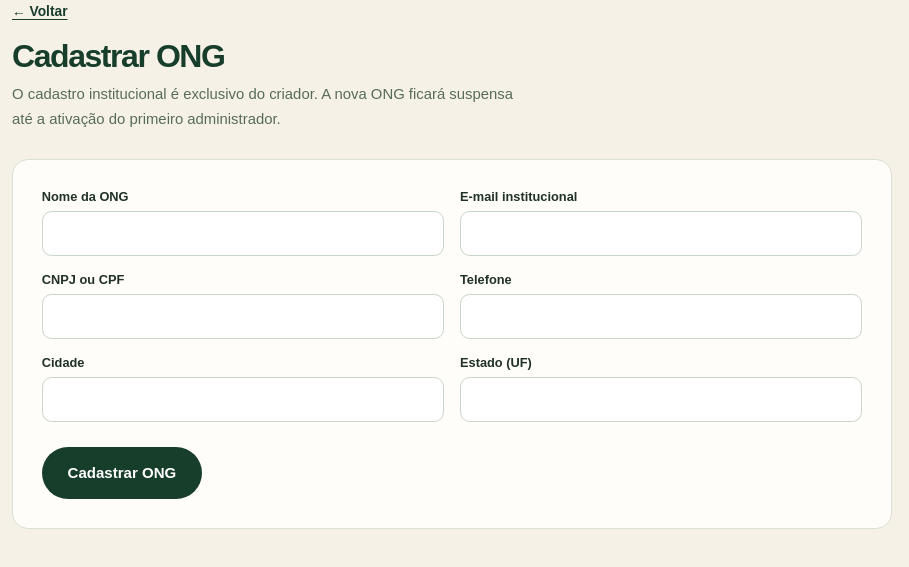
Test case: cria ONG sem campo de situação e informa erro de validação junto ao campo
Type "F98-DEMO" into the field labelled "Nome da ONG" at coordinates (243, 234), box x1=42 y1=211 x2=444 y2=256
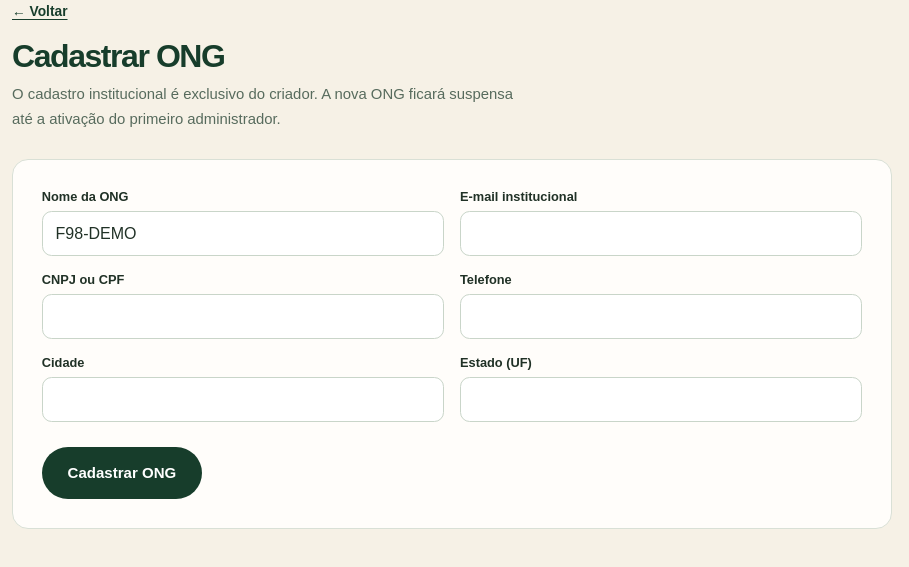
Type "ong@patas.test" into the field labelled "E-mail institucional" at coordinates (661, 234), box x1=460 y1=211 x2=862 y2=256
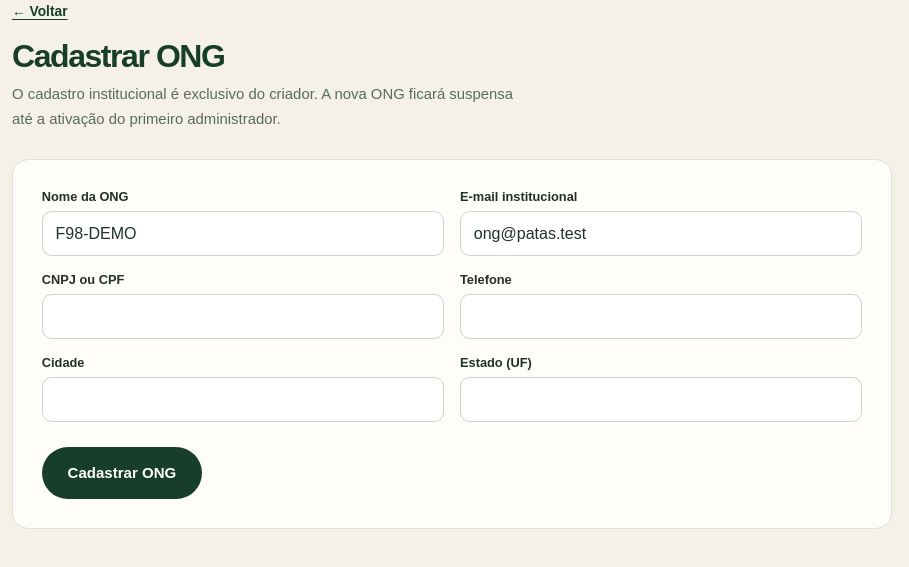
Click the button "Cadastrar ONG" at coordinates (122, 473), box x1=42 y1=447 x2=202 y2=499
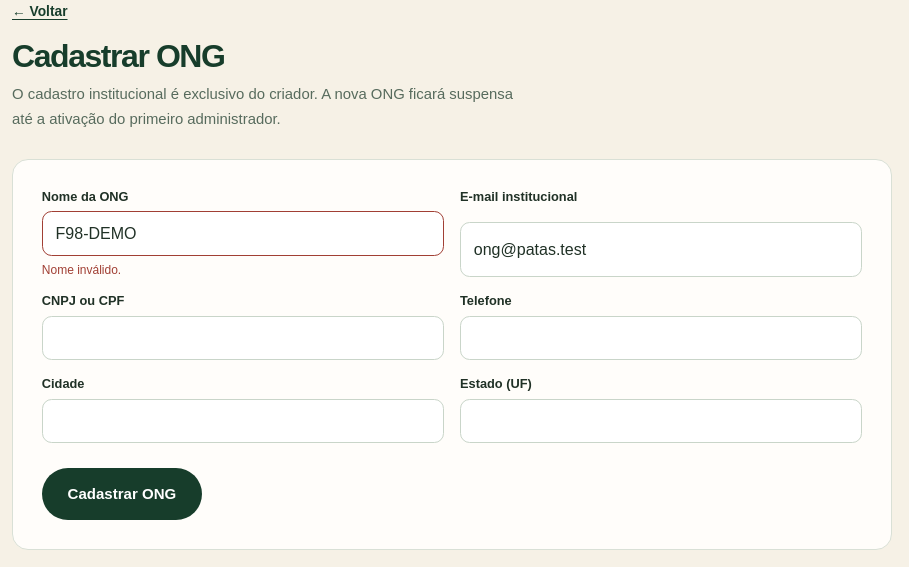
Expected: the text "Nome inválido." is shown, x1=42 y1=263 x2=121 y2=277
